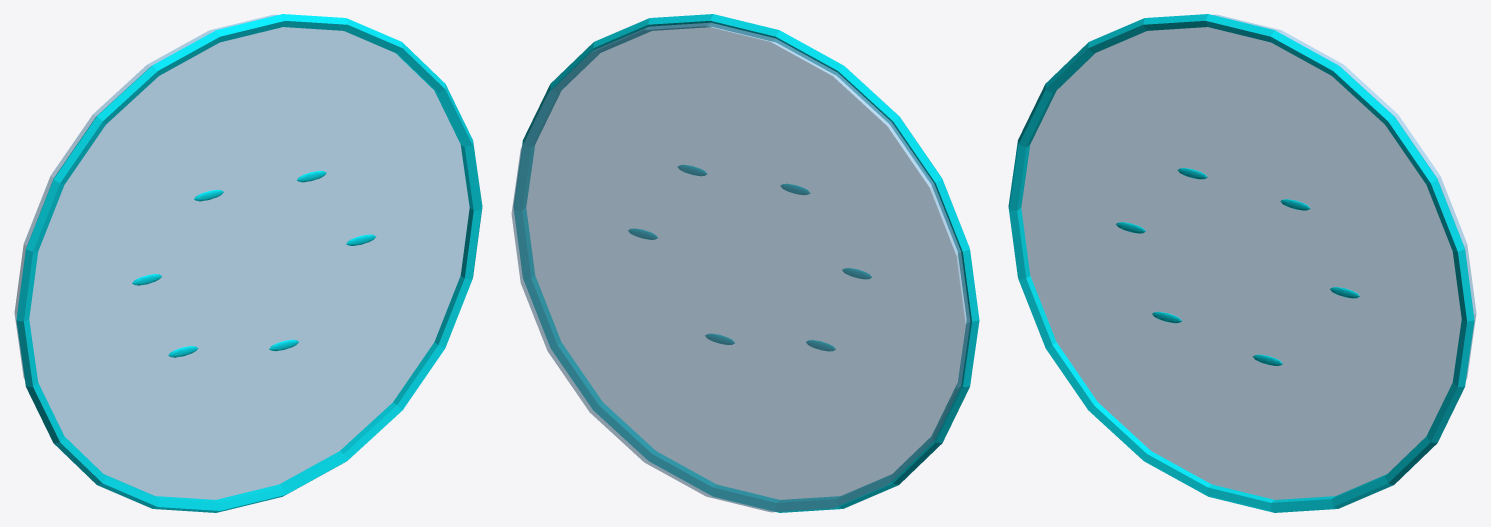
Rendered from 01_starfield_sky_water_preview.glb.
3 renders of one model, left to right at view 1: azimuth 30°, elevation 25°; view 2: azimuth 150°, elevation 25°; view 3: azimuth 330°, elevation 25°, orthographic.
Parts seen in each view (by area): view 1: water_surface, water_rim; view 2: water_surface, water_rim; view 3: water_surface, water_rim.
Part boxes in pixels (x1,y1,x2,y2): water_surface: (14,14,469,499); water_rim: (16,14,482,512); water_surface: (511,22,970,512); water_rim: (513,14,979,512); water_surface: (1021,14,1476,499); water_rim: (1008,14,1474,512).
Bounding box in the file's own units: 1.95 × 1.93 × 0.0935.
